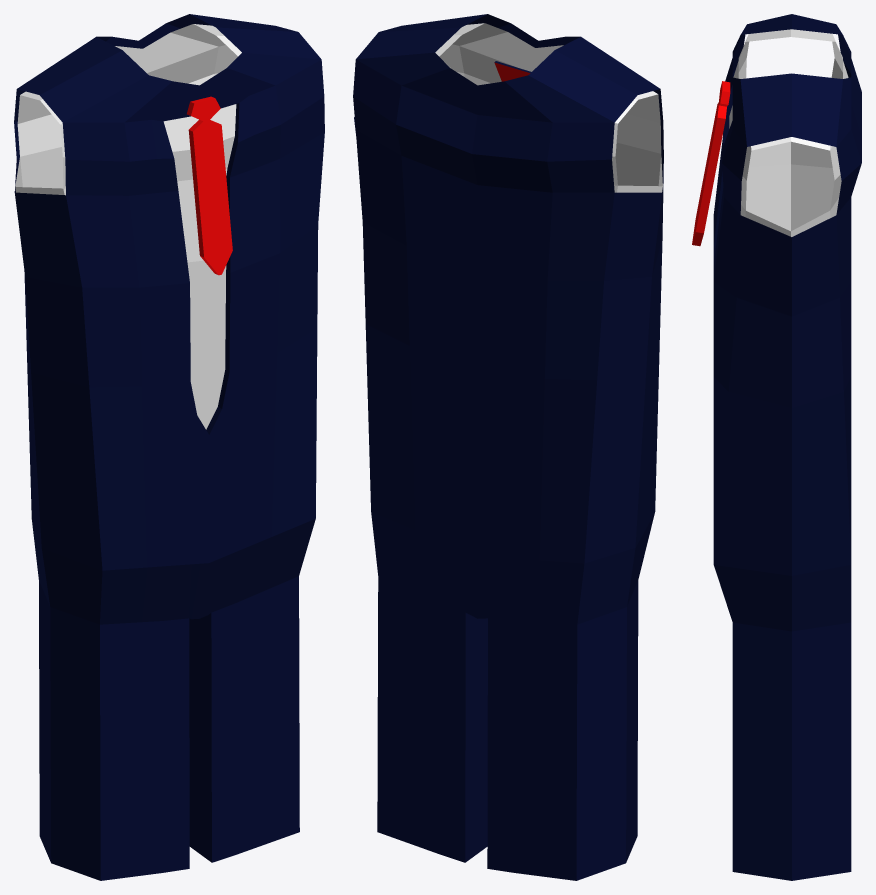
Rendered from suit.fbx.
The picture shows the model from 3 angles, left to right: view 1: azimuth 30°, elevation 25°; view 2: azimuth 150°, elevation 25°; view 3: azimuth 270°, elevation 25°; orthographic projection. The views are drawn at different scales.
Visible parts, largest first — view 1: Cube; view 2: Cube; view 3: Cube.
Part boxes in pixels (<box>): Cube: <box>14,14,324,880</box>; Cube: <box>353,14,663,880</box>; Cube: <box>692,14,861,880</box>.
Bounding box in the file's own units: 50.18 × 125 × 24.6.
